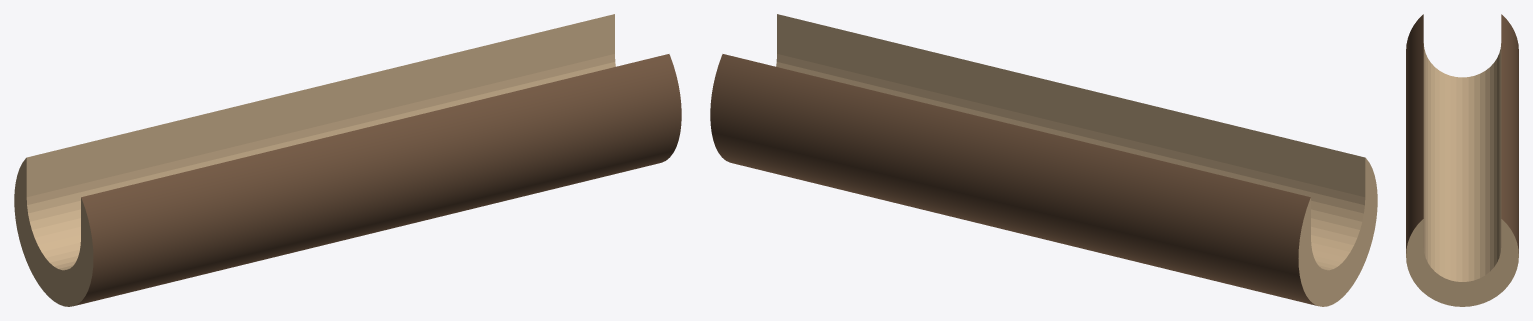
File: SM_RawLog_150_Gutter.fbx
The picture shows the model from 3 angles, left to right: view 1: azimuth 30°, elevation 25°; view 2: azimuth 150°, elevation 25°; view 3: azimuth 270°, elevation 25°; orthographic projection. The views are drawn at different scales.
Visible parts, largest first — view 1: RawLog_150_Gutter; view 2: RawLog_150_Gutter; view 3: RawLog_150_Gutter.
Part boxes in pixels (<box>): RawLog_150_Gutter: <box>14,14,681,306</box>; RawLog_150_Gutter: <box>710,14,1377,306</box>; RawLog_150_Gutter: <box>1406,14,1518,306</box>.
Size of what is drawn, in the model's own units: 1.5 by 0.302 by 0.35.
